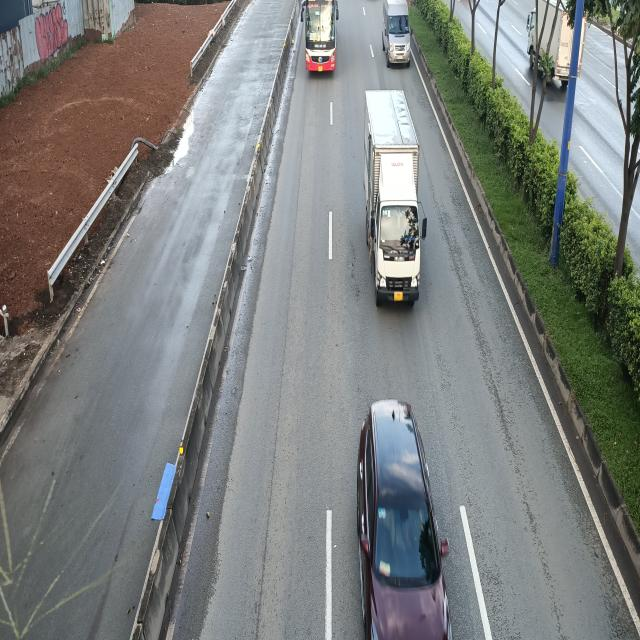car: (355, 402, 452, 640)
coach: (304, 0, 342, 76)
truck: (365, 89, 429, 308)
van: (380, 0, 410, 67)
